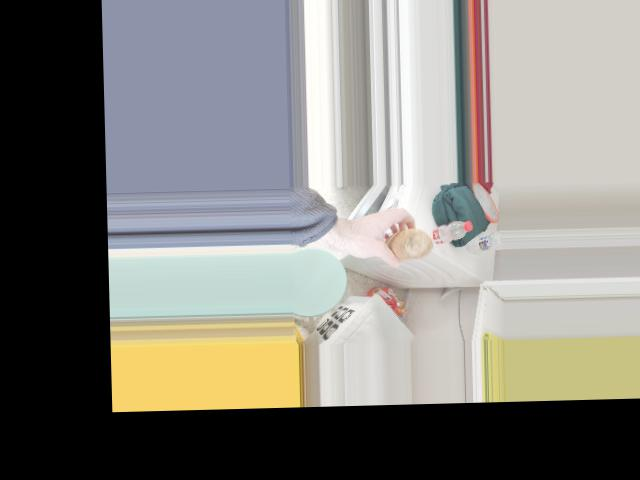sweet_potato: (379, 221, 431, 264)
